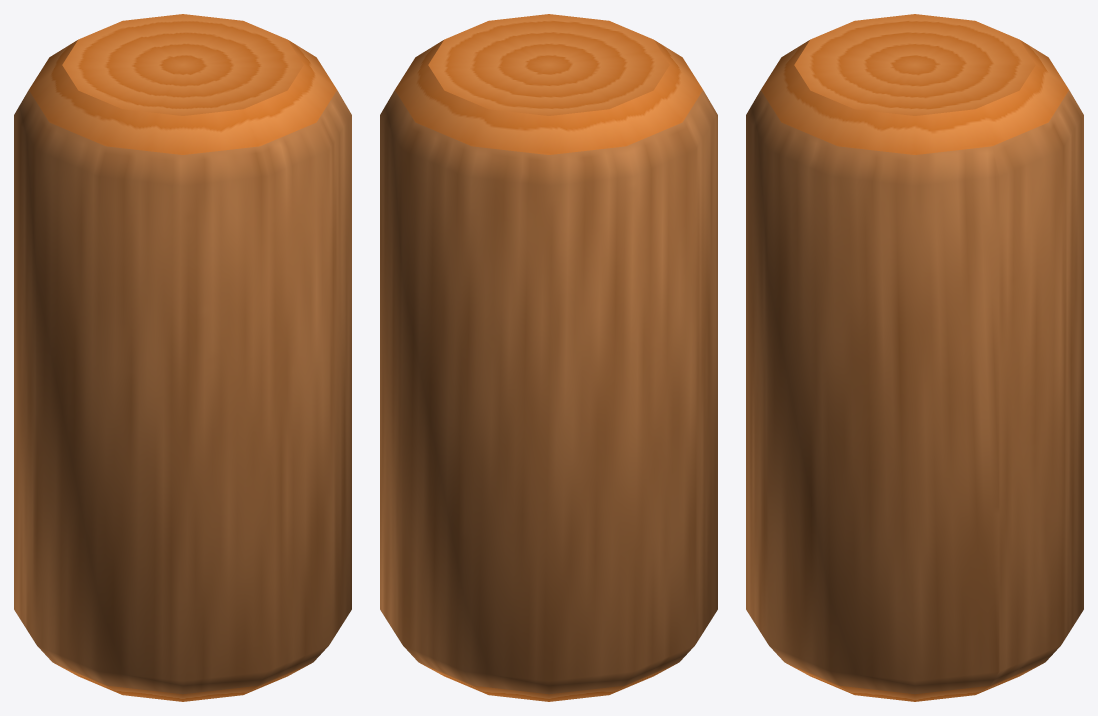
File: Log.fbx
The picture shows the model from 3 angles, left to right: view 1: azimuth 30°, elevation 25°; view 2: azimuth 150°, elevation 25°; view 3: azimuth 270°, elevation 25°; orthographic projection.
Visible parts, largest first — view 1: Cylinder; view 2: Cylinder; view 3: Cylinder.
Boxes of the visible parts, <box> form: Cylinder: <box>14,14,351,701</box>; Cylinder: <box>380,14,717,701</box>; Cylinder: <box>746,14,1083,701</box>.
Size of the model in its own units: 200 by 383 by 200.
2 materials, 2 textured.
